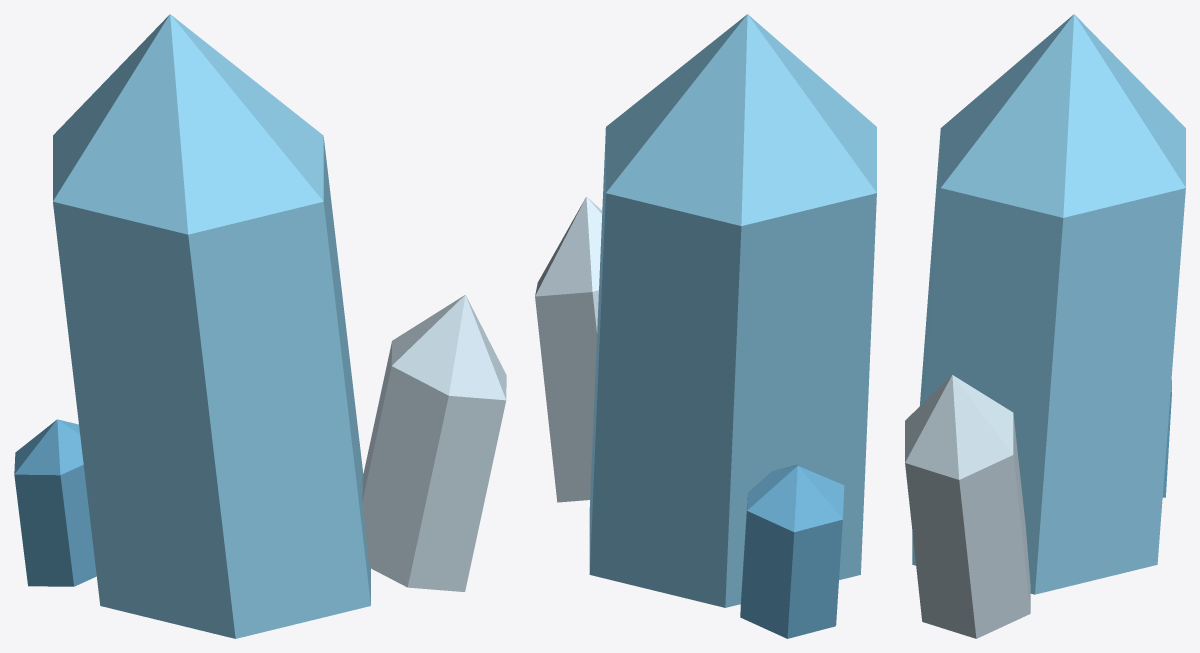
The model's file is crystalline_item_flat.glb.
The picture shows the model from 3 angles, left to right: view 1: azimuth 30°, elevation 25°; view 2: azimuth 150°, elevation 25°; view 3: azimuth 270°, elevation 25°; orthographic projection. The views are drawn at different scales.
Parts seen in each view (by area): view 1: CrystalMain, CrystalSmall, CrystalTiny; view 2: CrystalMain, CrystalTiny, CrystalSmall; view 3: CrystalMain, CrystalSmall.
Part boxes in pixels (left/top/right/bottom): CrystalMain: left=53, top=14, right=370, bottom=638; CrystalSmall: left=362, top=295, right=506, bottom=591; CrystalTiny: left=14, top=419, right=96, bottom=586; CrystalMain: left=589, top=14, right=876, bottom=607; CrystalTiny: left=740, top=464, right=844, bottom=638; CrystalSmall: left=535, top=196, right=602, bottom=502; CrystalMain: left=912, top=14, right=1185, bottom=594; CrystalSmall: left=905, top=375, right=1030, bottom=638.
Bounding box in the file's own units: 0.0356 × 0.0488 × 0.024.
